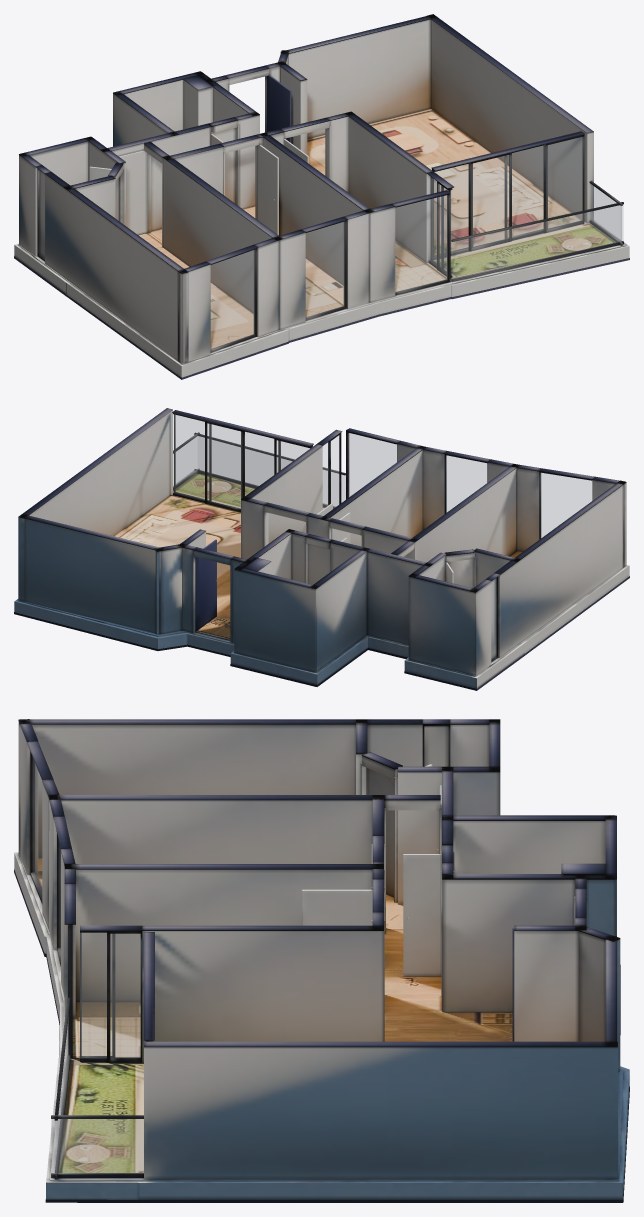
The picture shows the model from 3 angles, top to bottom: view 1: azimuth 30°, elevation 25°; view 2: azimuth 150°, elevation 25°; view 3: azimuth 270°, elevation 25°; orthographic projection. The views are drawn at different scales.
Parts seen in each view (by area): view 1: plan, glass0_m, railg1_m, glass2_m, glass4_m, glass3_m, glass1_m, railg0_m; view 2: plan, glass0_m, railg1_m, glass4_m, glass2_m, glass3_m, glass1_m, railg0_m; view 3: plan, glass1_m, railg0_m, glass4_m.
Boxes of the visible parts, x1,y1,x2,y2 form: plan: (14,14,629,379); glass0_m: (434,137,582,252); railg1_m: (452,205,623,278); glass2_m: (395,195,447,292); glass4_m: (211,250,254,349); glass3_m: (306,222,344,317); glass1_m: (430,176,451,275); railg0_m: (591,184,621,242); plan: (14,408,629,690); glass0_m: (173,414,309,508); railg1_m: (198,436,345,506); glass4_m: (541,473,591,537); glass2_m: (348,433,396,496); glass3_m: (446,455,486,512); glass1_m: (323,436,338,508); railg0_m: (173,437,196,486); plan: (14,719,629,1202); glass1_m: (80,933,140,1057); railg0_m: (51,1119,143,1173); glass4_m: (33,759,41,894).
Size of the model in its own units: 12.08 by 2.62 by 9.48.
Materials: 2 (1 with a texture image).
